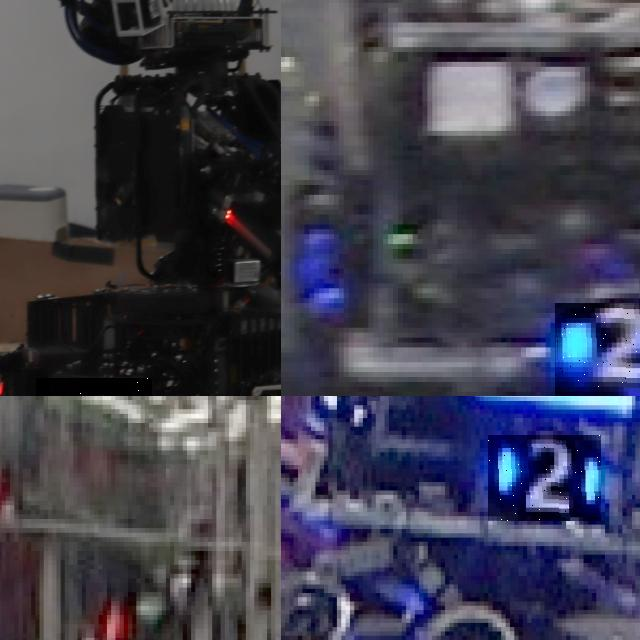B2: (488, 435, 601, 521), (555, 303, 640, 396)
